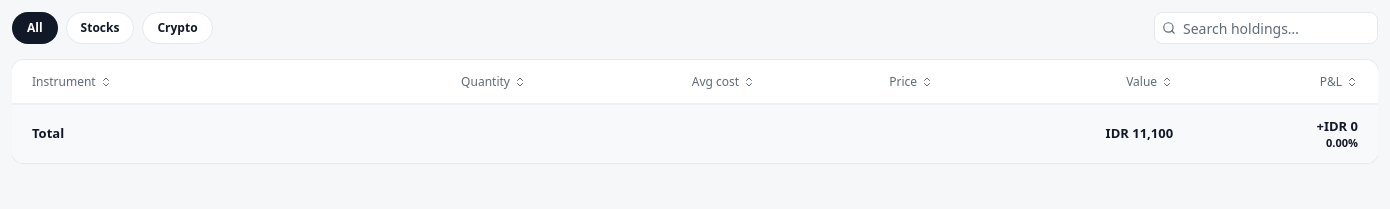
Test: PositionsPanel › composes search with the active asset-class tab
Press the mouse on the tab "Crypto": (178, 28) left=142, top=12, right=213, bottom=44
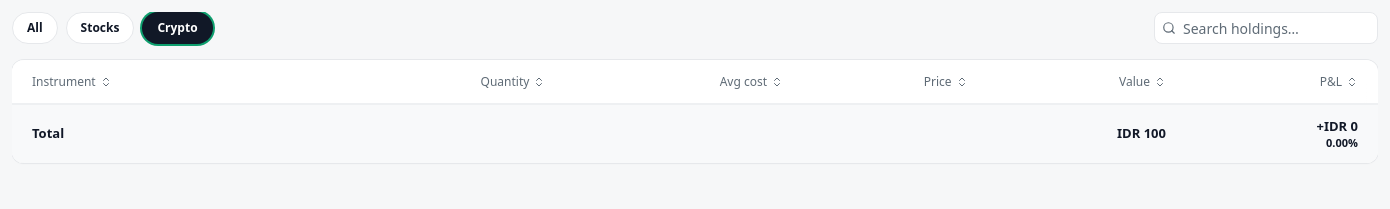
In the field with placeholder "Search holdings…": (1266, 28) left=1154, top=12, right=1378, bottom=44, type "BBCA"
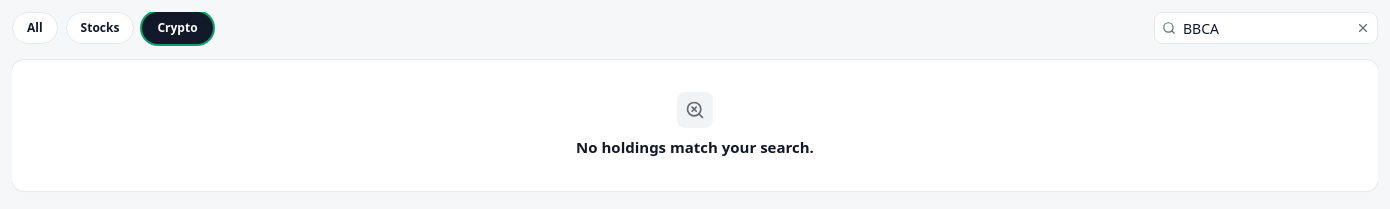
Result: the text "No holdings match your search." is shown at left=576, top=136, right=814, bottom=158
